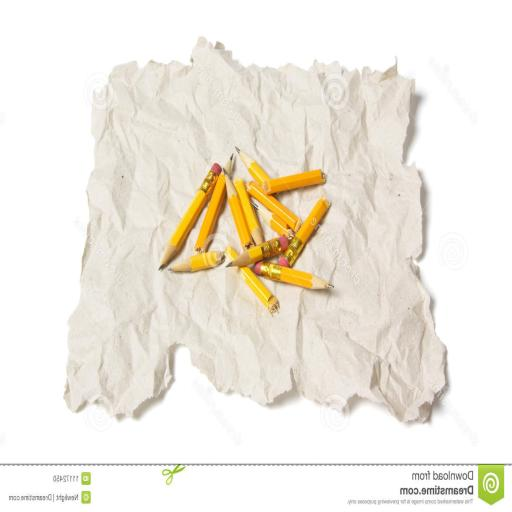Kertas: (61, 37, 449, 426)
